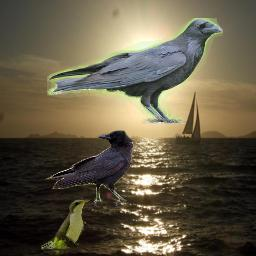Crow: (47, 18, 223, 124), (45, 130, 134, 207)
Cuckoo: (41, 198, 90, 256)
